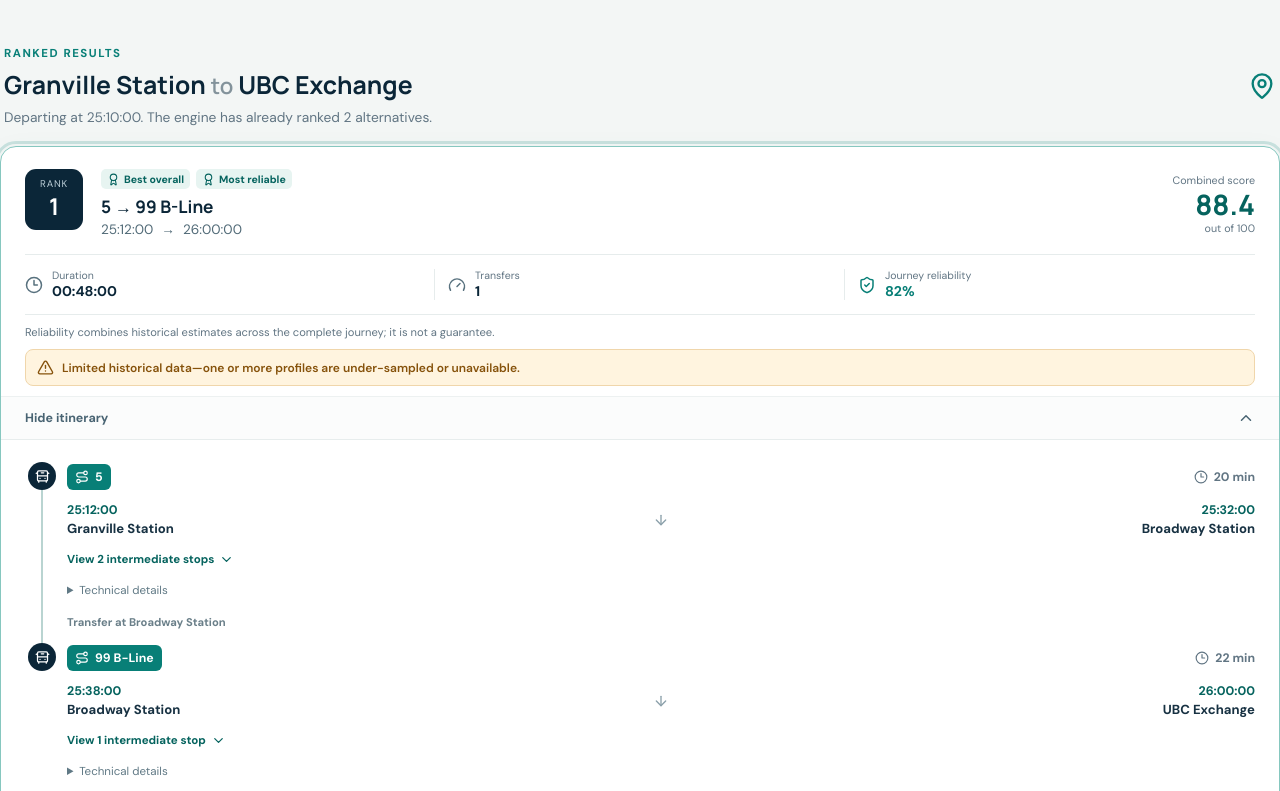
RouteResults › expands and collapses ordered leg stops independently
The width and height of the screenshot is (1280, 791).
Expected: the text "Davie Street" is not shown
Click the button "View 2 intermediate stops" at (151, 560), box [67, 547, 234, 572]
(page scrolled)
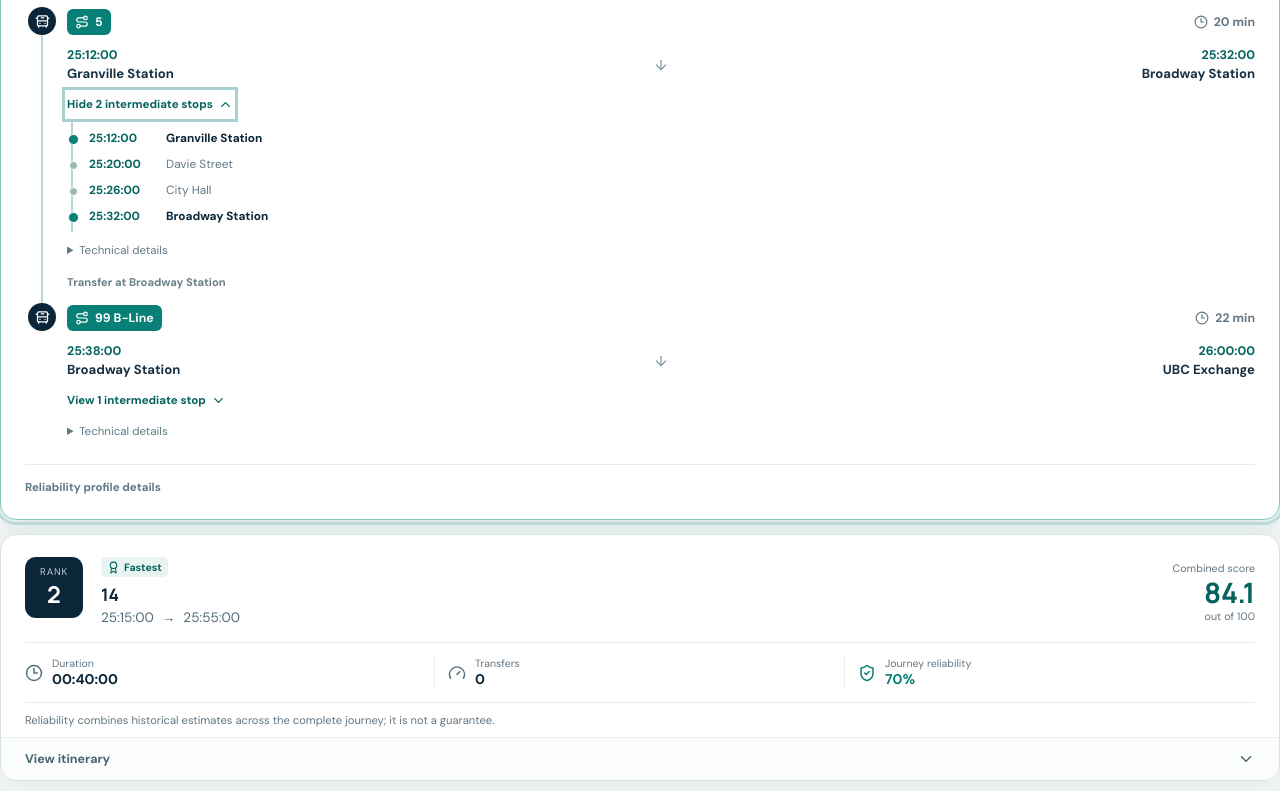
Expected: the button named "View 2 intermediate stops" is expanded, [67, 92, 233, 117]
Expected: the list items read "25:12:00Granville Station", "25:20:00Davie Street", "25:26:00City Hall", "25:32:00Broadway Station", in this order, [89, 130, 262, 146]; [89, 156, 233, 172]; [89, 182, 212, 198]; [89, 208, 268, 224]
Click the button "View 1 intermediate stop" at (146, 400), box [67, 388, 226, 413]
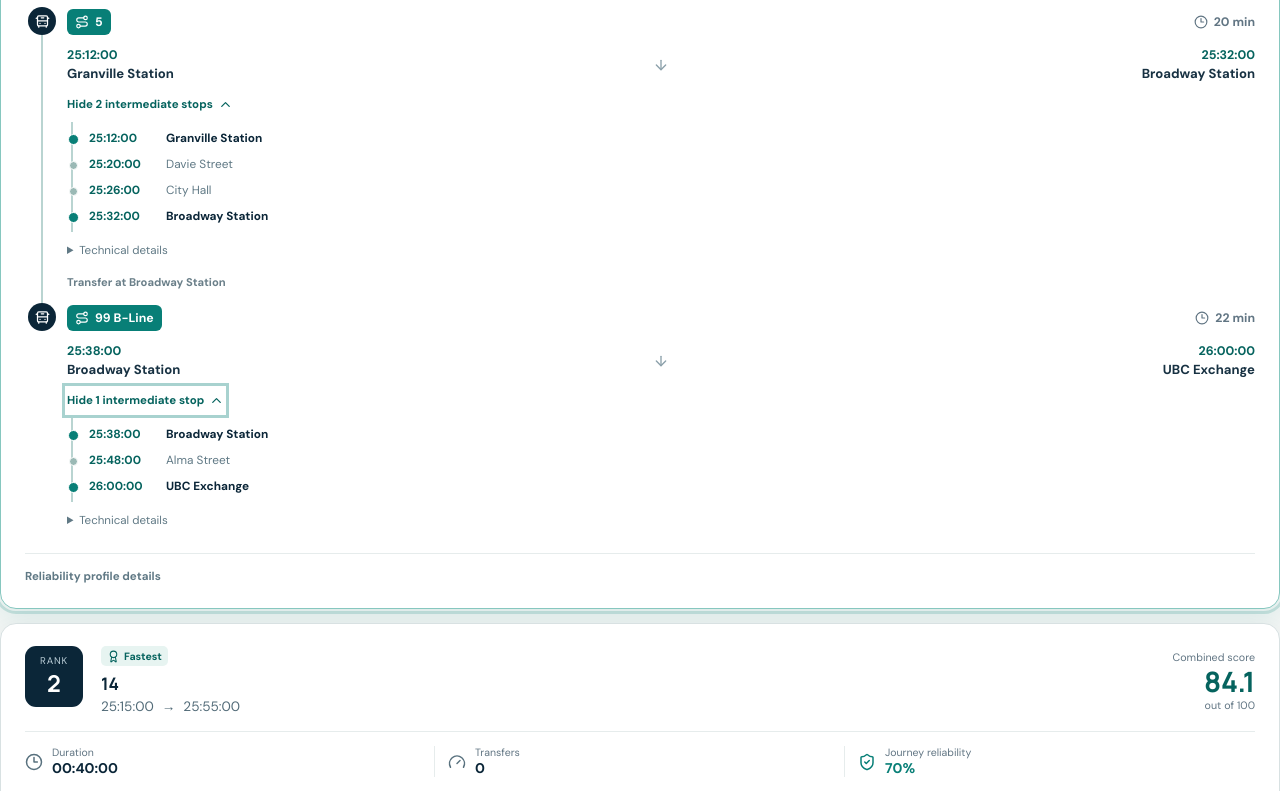
Expected: the button named "View 2 intermediate stops" is expanded
Expected: the text "Alma Street" is shown, [166, 452, 230, 468]
Click the button named "View 2 intermediate stops" at (150, 104), box [67, 92, 233, 117]
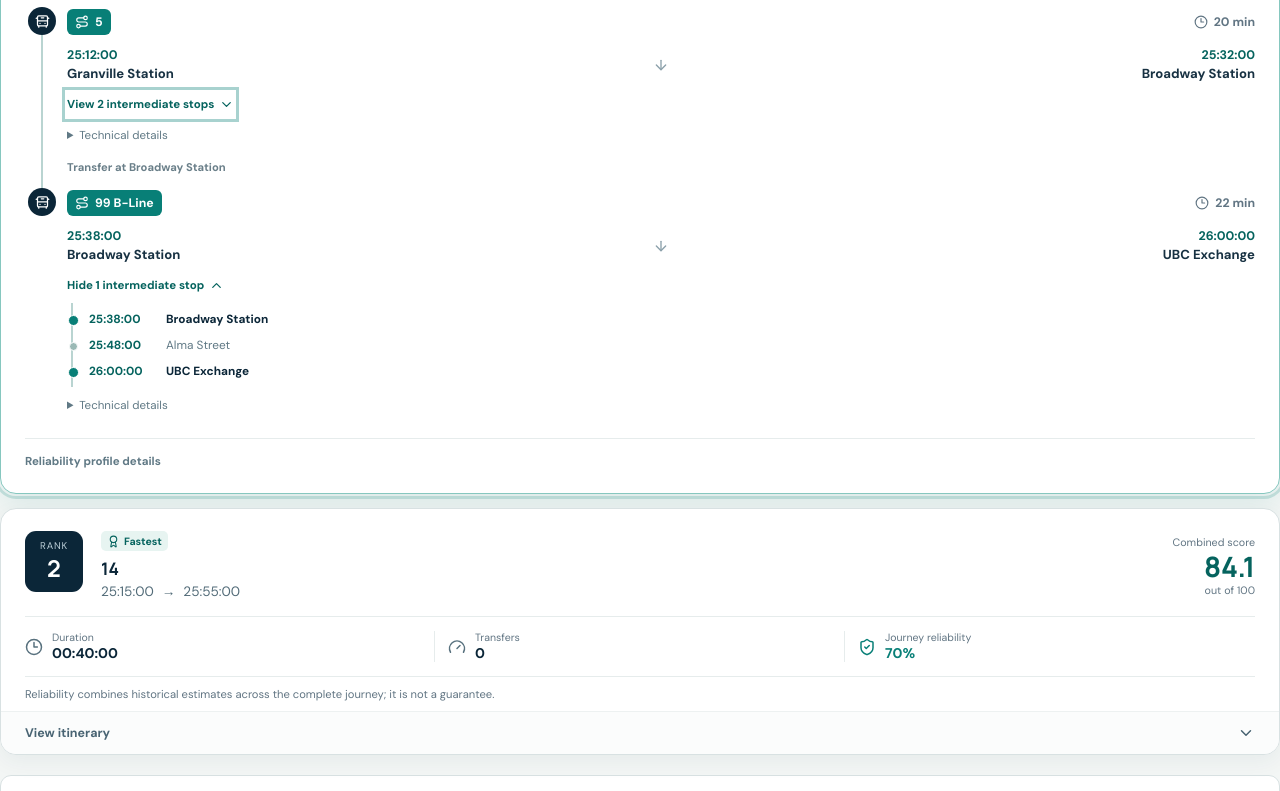
Expected: the text "Davie Street" is gone
